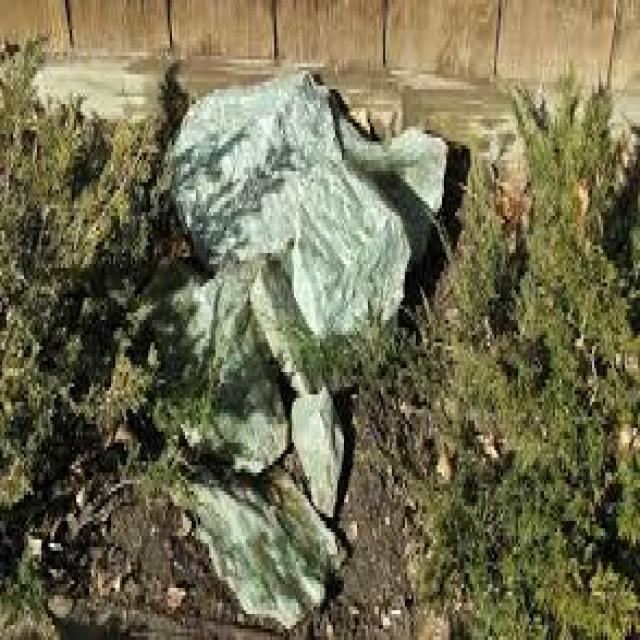Metamorphic: (155, 67, 444, 640)
